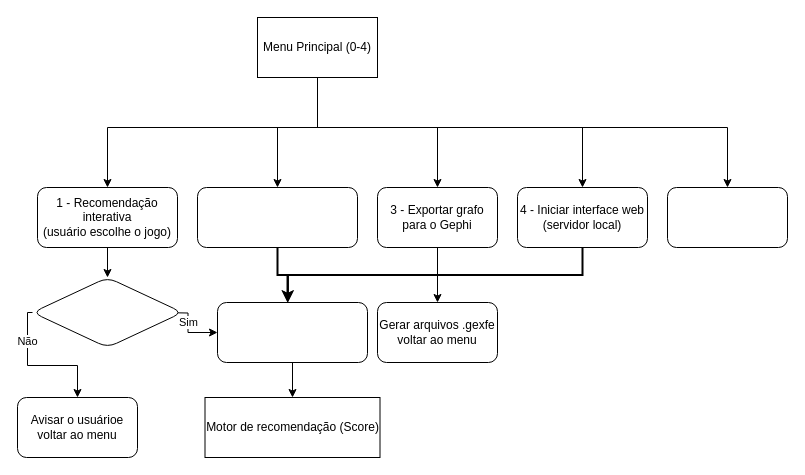
Some shapes in this 805 by 475 pixel diagram are drawn without their labels. The shapes that lost their labels are listed below. From the top down, each one's centre as x and y in pixels, then its label:
[277,217]: 2 - Recomendação em lote (lista de jogos do arquivo .txt)
[727,217]: 0 - Encerrar
[107,312]: O Jogo existe no grafo?
[292,332]: Gerar recomendaçõespara o jogo-alvo
